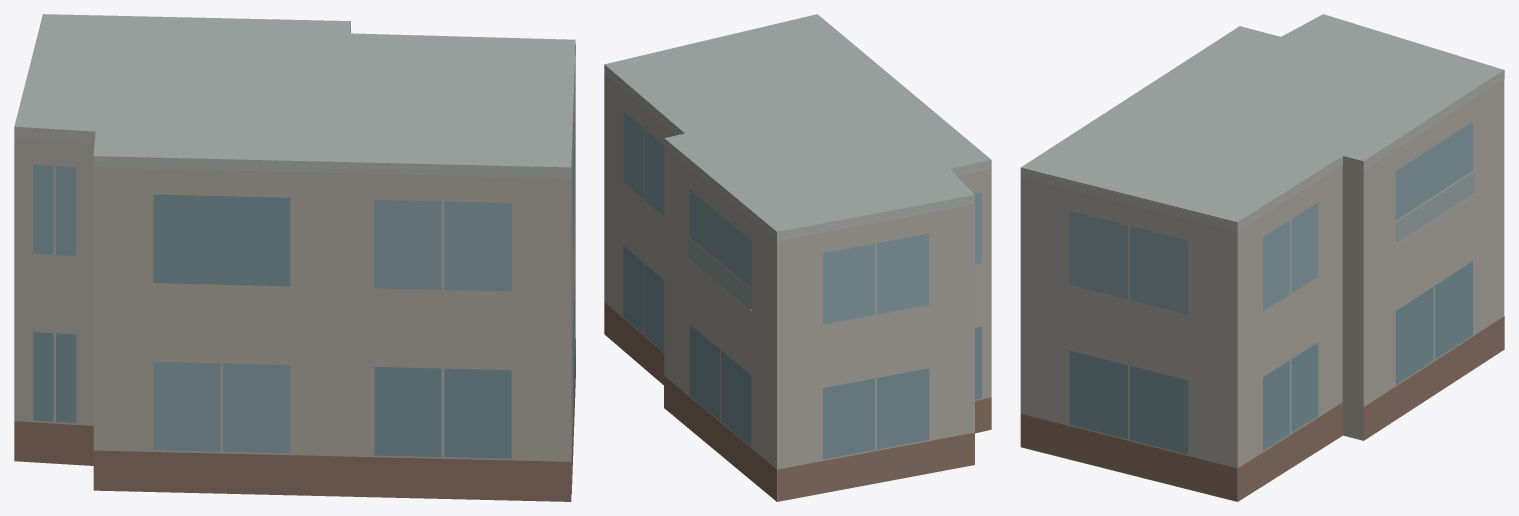
File: survey-upis-32934899.glb
3 renders of one model, left to right at view 1: azimuth 30°, elevation 25°; view 2: azimuth 150°, elevation 25°; view 3: azimuth 270°, elevation 25°, orthographic. The views are drawn at different scales.
Visible parts, largest first — view 1: survey-upis-32934899.tmp; view 2: survey-upis-32934899.tmp; view 3: survey-upis-32934899.tmp.
Boxes of the visible parts, x1,y1,x2,y2 form: survey-upis-32934899.tmp: (14,14,575,501); survey-upis-32934899.tmp: (604,14,991,501); survey-upis-32934899.tmp: (1020,14,1504,501).
Size of the model in its own units: 11.67 by 7.3 by 11.45.
